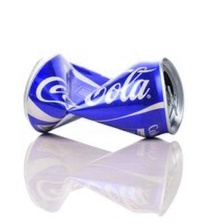can: (17, 48, 189, 138), (20, 132, 190, 217)
